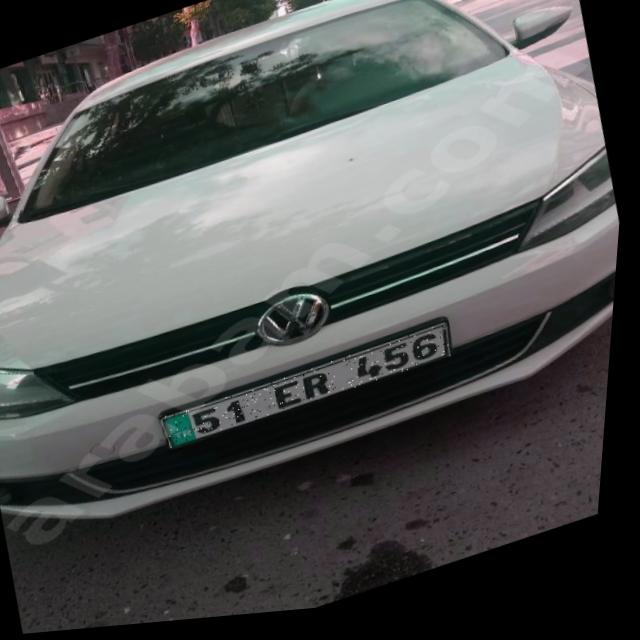license_plate: (168, 331, 458, 453)
